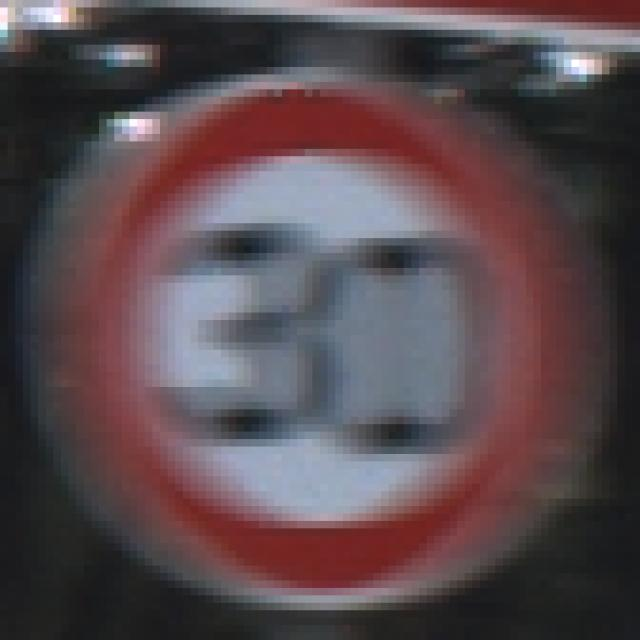Speed Limit -30-: (49, 48, 583, 584)
